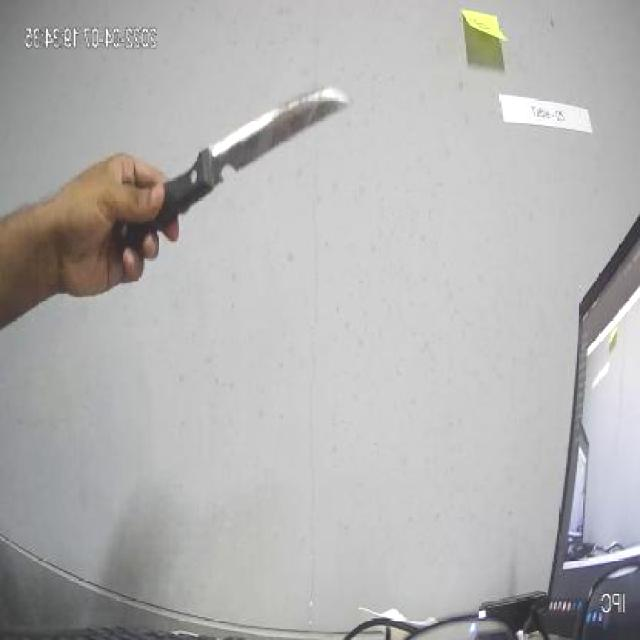knife: (92, 70, 352, 264)
